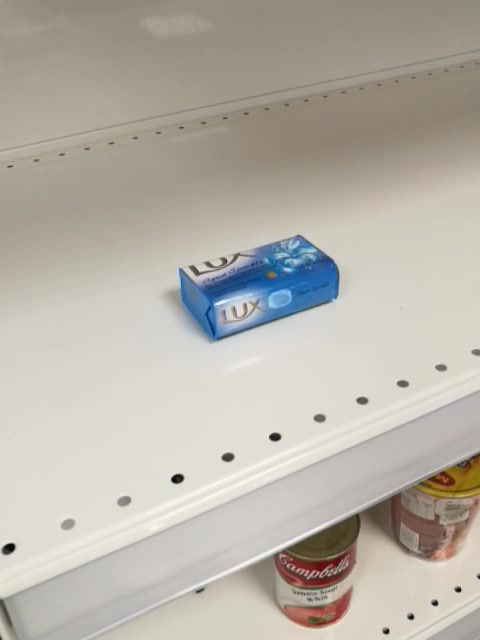soap: (179, 234, 341, 341)
